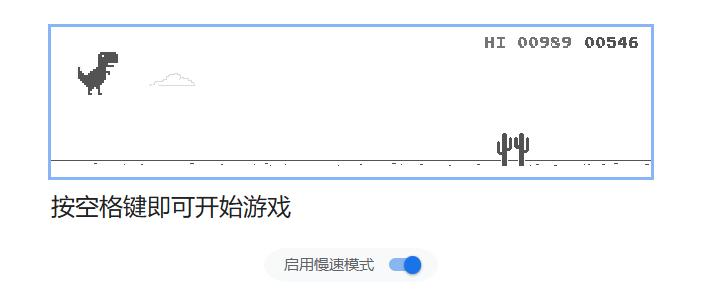cactus: (495, 131, 530, 167)
dino: (75, 50, 119, 96)
